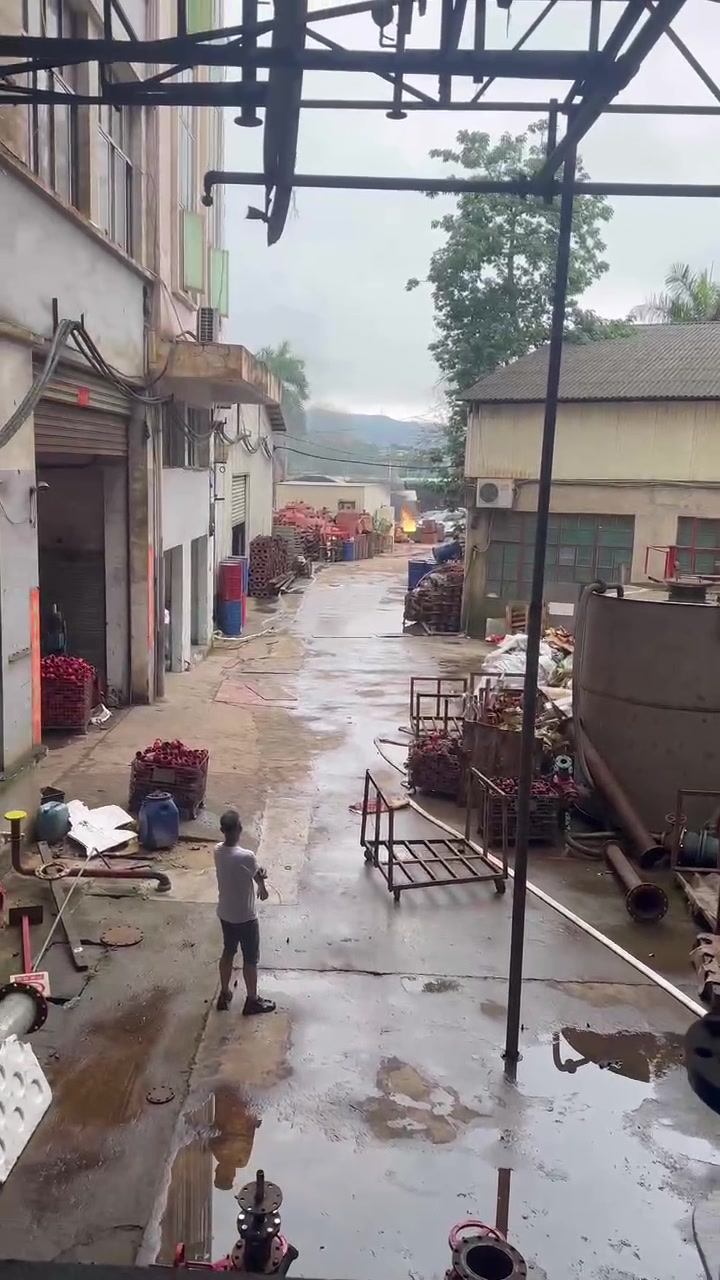fire: (401, 505, 416, 532)
